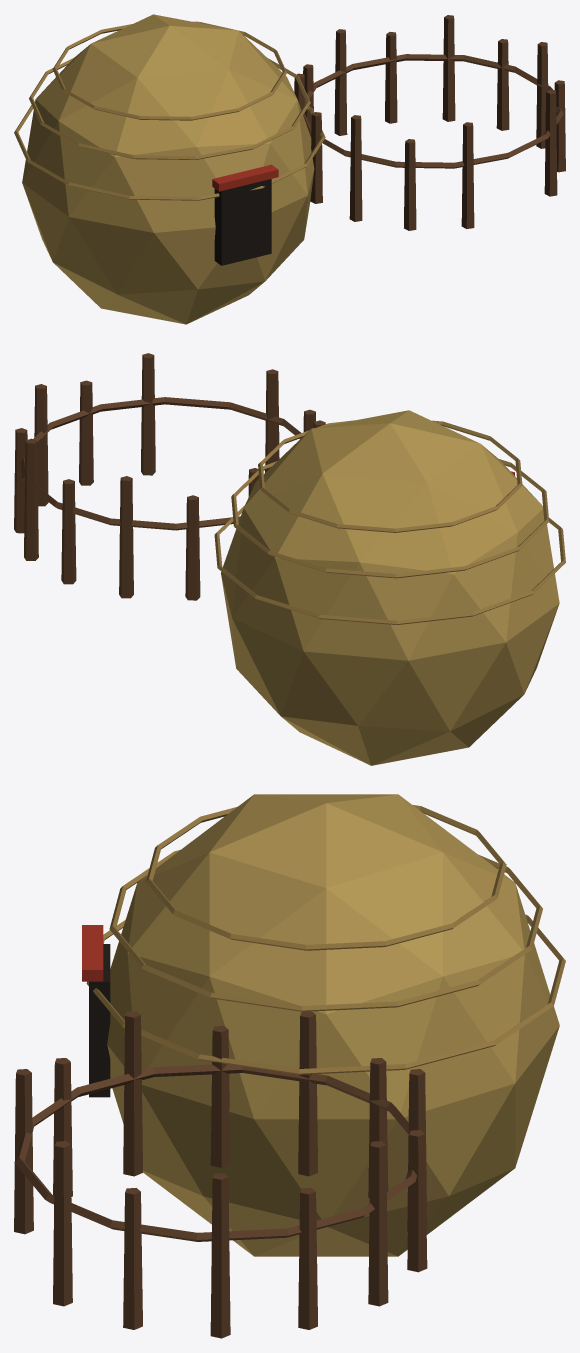
The model's file is elephant_house_b_broken.glb.
3 renders of one model, top to bottom at view 1: azimuth 30°, elevation 25°; view 2: azimuth 150°, elevation 25°; view 3: azimuth 270°, elevation 25°, orthographic. The views are drawn at different scales.
Visible parts, largest first — view 1: elephant_house_b_piece1, elephant_house_b_piece13, elephant_house_b_piece6, elephant_house_b_piece10, elephant_house_b_piece3, elephant_house_b_piece5, elephant_house_b_piece2, elephant_house_b_piece7, elephant_house_b_piece9, elephant_house_b_piece12, elephant_house_b_piece0, elephant_house_b_piece4; view 2: elephant_house_b_piece1, elephant_house_b_piece8, elephant_house_b_piece11, elephant_house_b_piece5, elephant_house_b_piece2, elephant_house_b_piece9, elephant_house_b_piece6, elephant_house_b_piece3, elephant_house_b_piece7, elephant_house_b_piece10, elephant_house_b_piece4; view 3: elephant_house_b_piece1, elephant_house_b_piece3, elephant_house_b_piece4, elephant_house_b_piece5, elephant_house_b_piece2, elephant_house_b_piece10, elephant_house_b_piece13, elephant_house_b_piece8, elephant_house_b_piece9, elephant_house_b_piece7, elephant_house_b_piece12, elephant_house_b_piece0 (+1 smaller).
Boxes of the visible parts, x1=… form: elephant_house_b_piece1: x1=14, y1=14, x2=258, y2=219; elephant_house_b_piece13: x1=84, y1=160, x2=361, y2=263; elephant_house_b_piece6: x1=33, y1=201, x2=294, y2=324; elephant_house_b_piece10: x1=107, y1=94, x2=316, y2=170; elephant_house_b_piece3: x1=55, y1=40, x2=316, y2=239; elephant_house_b_piece5: x1=296, y1=15, x2=552, y2=185; elephant_house_b_piece2: x1=307, y1=73, x2=565, y2=228; elephant_house_b_piece7: x1=263, y1=122, x2=533, y2=178; elephant_house_b_piece9: x1=351, y1=80, x2=565, y2=182; elephant_house_b_piece12: x1=209, y1=87, x2=352, y2=188; elephant_house_b_piece0: x1=350, y1=174, x2=474, y2=223; elephant_house_b_piece4: x1=289, y1=181, x2=416, y2=254; elephant_house_b_piece1: x1=216, y1=413, x2=565, y2=650; elephant_house_b_piece8: x1=233, y1=605, x2=383, y2=764; elephant_house_b_piece11: x1=367, y1=642, x2=519, y2=765; elephant_house_b_piece5: x1=14, y1=384, x2=252, y2=568; elephant_house_b_piece2: x1=14, y1=454, x2=227, y2=616; elephant_house_b_piece9: x1=66, y1=353, x2=325, y2=458; elephant_house_b_piece6: x1=417, y1=623, x2=552, y2=757; elephant_house_b_piece3: x1=214, y1=410, x2=565, y2=632; elephant_house_b_piece7: x1=191, y1=369, x2=315, y2=438; elephant_house_b_piece10: x1=432, y1=420, x2=547, y2=515; elephant_house_b_piece4: x1=224, y1=576, x2=244, y2=673; elephant_house_b_piece1: x1=197, y1=794, x2=565, y2=1078; elephant_house_b_piece3: x1=187, y1=828, x2=467, y2=1096; elephant_house_b_piece4: x1=53, y1=1050, x2=519, y2=1256; elephant_house_b_piece5: x1=170, y1=1019, x2=426, y2=1287; elephant_house_b_piece2: x1=14, y1=1094, x2=439, y2=1338; elephant_house_b_piece10: x1=90, y1=819, x2=199, y2=1065; elephant_house_b_piece13: x1=82, y1=920, x2=198, y2=1139; elephant_house_b_piece8: x1=337, y1=1006, x2=559, y2=1256; elephant_house_b_piece9: x1=34, y1=1011, x2=170, y2=1293; elephant_house_b_piece7: x1=14, y1=960, x2=180, y2=1185; elephant_house_b_piece12: x1=135, y1=855, x2=207, y2=1124; elephant_house_b_piece0: x1=14, y1=1102, x2=142, y2=1223.
Size of the model in its own units: 4.03 by 2.31 by 2.6.
